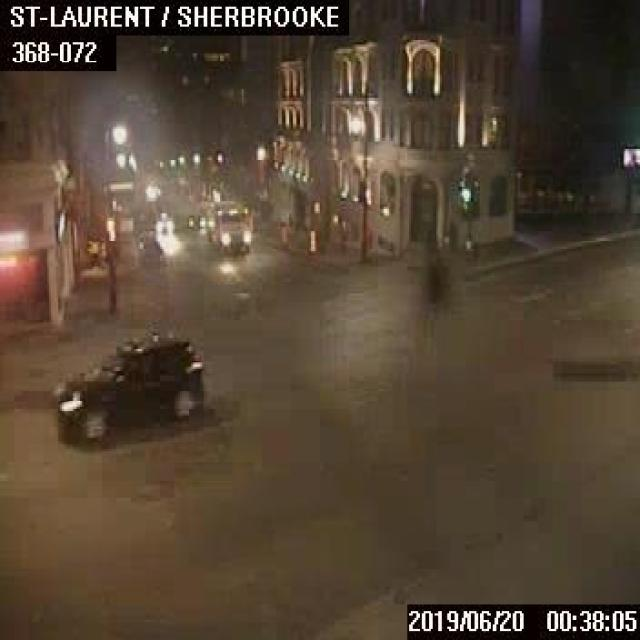construction: (278, 222, 288, 247), (308, 228, 316, 252)
vehicle: (53, 333, 206, 443), (208, 200, 249, 253), (137, 240, 163, 266), (153, 211, 171, 231), (185, 212, 203, 228)
